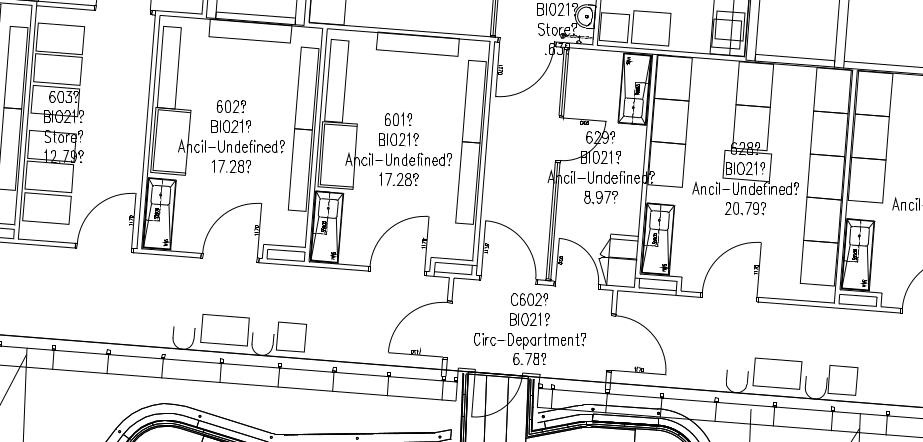door: (696, 232, 766, 306), (494, 37, 556, 101), (478, 218, 540, 281), (369, 214, 431, 277), (200, 199, 262, 262), (74, 191, 136, 254), (386, 296, 448, 359), (610, 313, 672, 376), (556, 114, 609, 164)
